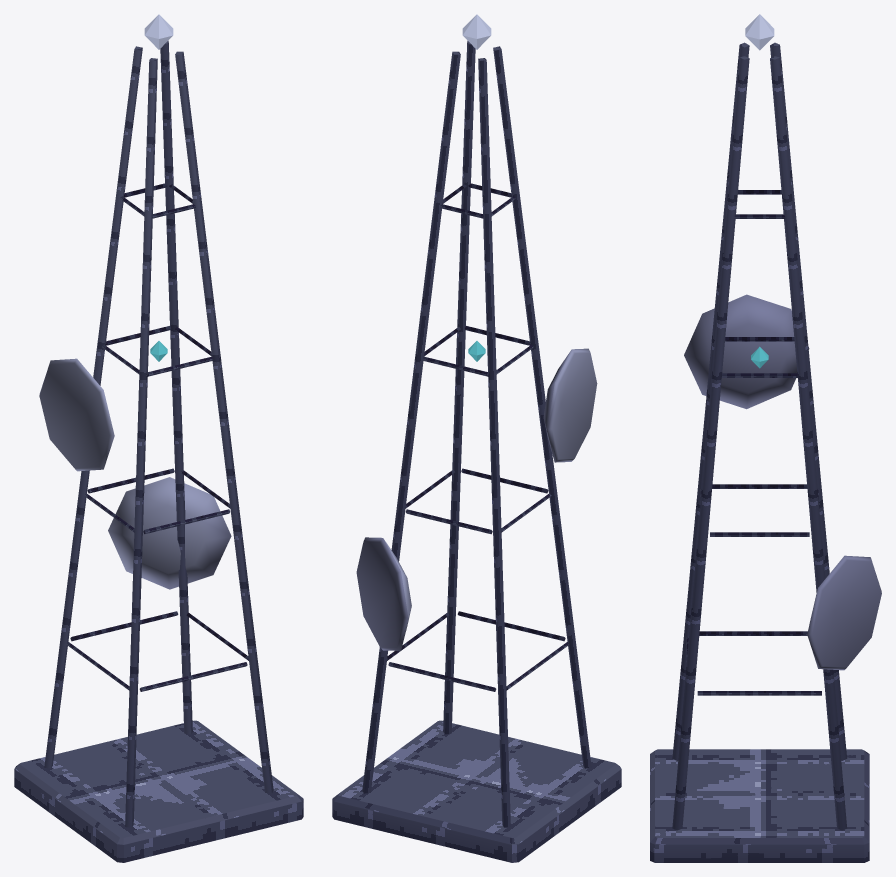
File: cytower.spire.glb
3 views of the same model, side by side, from view 1: azimuth 30°, elevation 25°; view 2: azimuth 150°, elevation 25°; view 3: azimuth 270°, elevation 25° (orthographic).
Visible parts, largest first — view 1: kit_mast, kit_beacon; view 2: kit_mast, kit_beacon; view 3: kit_mast, kit_beacon.
Part boxes in pixels (x1,y1,x2,y2): kit_mast: [14, 40, 303, 862]; kit_beacon: [144, 14, 173, 361]; kit_mast: [332, 40, 621, 862]; kit_beacon: [462, 14, 491, 361]; kit_mast: [650, 42, 881, 862]; kit_beacon: [745, 14, 774, 368].
Bounding box in the file's own units: 2.69 × 10.49 × 2.75.
5 materials, 4 textured.
